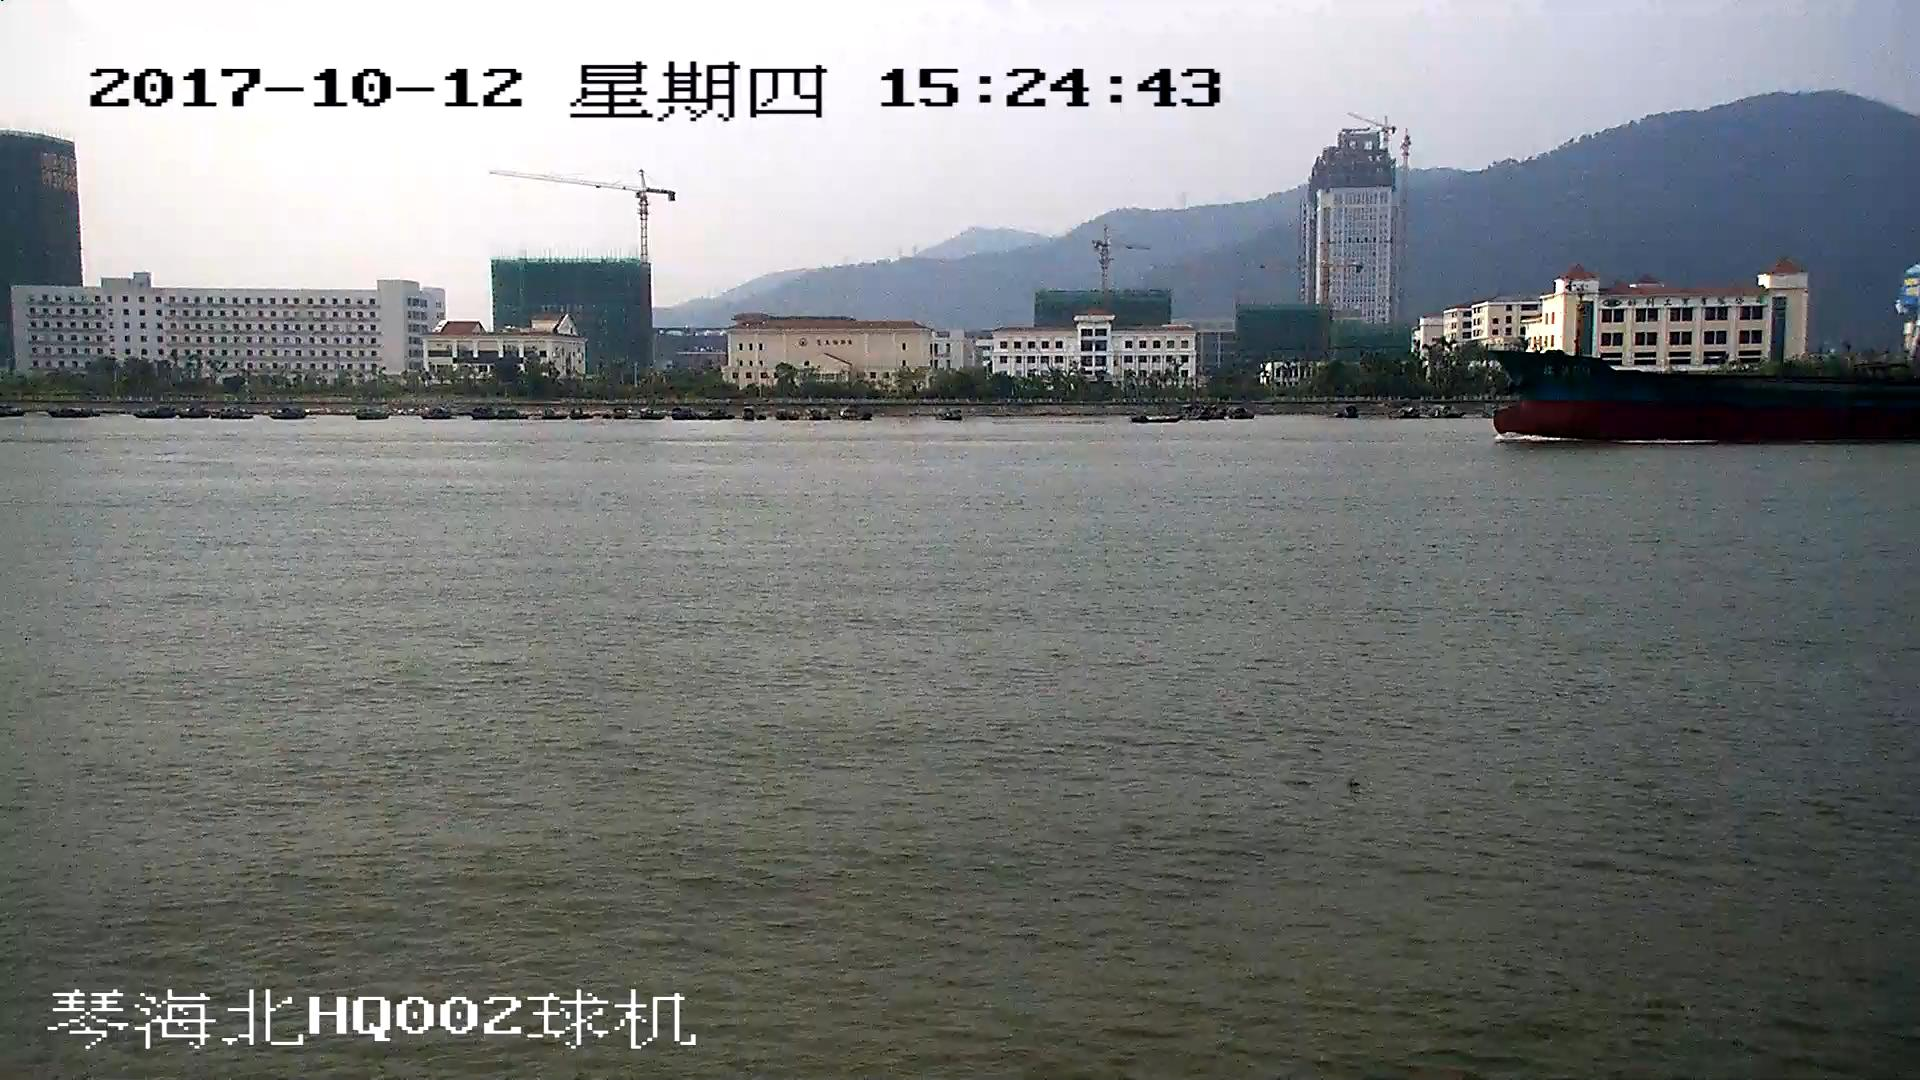general cargo ship: (1481, 347, 1920, 442)
